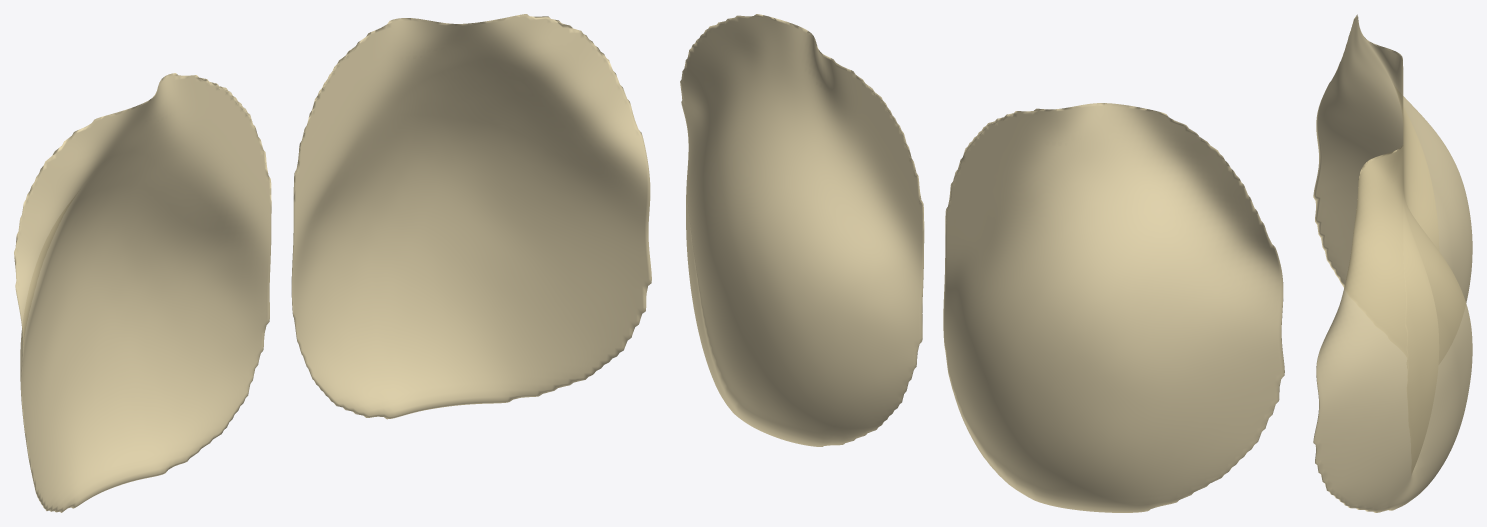
The model's file is gluteal_fat_m.glb.
3 renders of one model, left to right at view 1: azimuth 30°, elevation 25°; view 2: azimuth 150°, elevation 25°; view 3: azimuth 270°, elevation 25°, orthographic. The views are drawn at different scales.
Visible parts, largest first — view 1: Gluteal subcutaneous fat.l, Gluteal subcutaneous fat.r; view 2: Gluteal subcutaneous fat.r, Gluteal subcutaneous fat.l; view 3: Gluteal subcutaneous fat.l, Gluteal subcutaneous fat.r.
Part boxes in pixels (x1=…): Gluteal subcutaneous fat.l: x1=291, y1=14, x2=651, y2=419; Gluteal subcutaneous fat.r: x1=14, y1=73, x2=271, y2=512; Gluteal subcutaneous fat.r: x1=943, y1=103, x2=1284, y2=512; Gluteal subcutaneous fat.l: x1=680, y1=14, x2=924, y2=446; Gluteal subcutaneous fat.l: x1=1313, y1=145, x2=1472, y2=512; Gluteal subcutaneous fat.r: x1=1313, y1=14, x2=1472, y2=302.
Size of the model in its own units: 0.2759 by 0.1707 by 0.0754.
